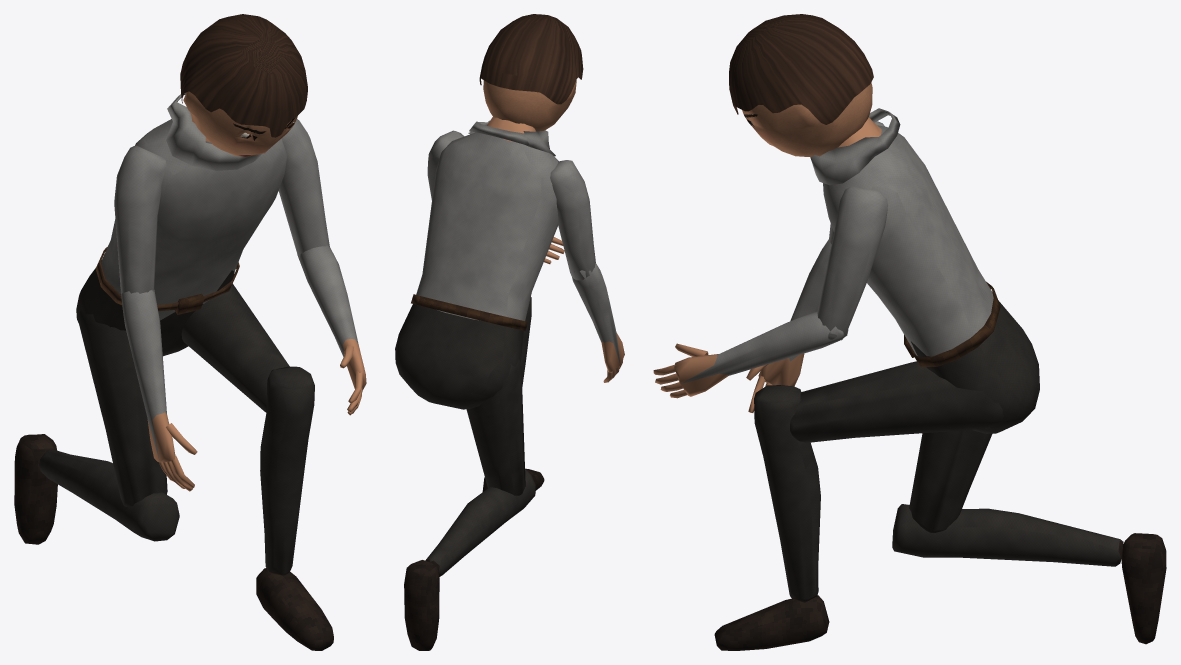
Rendered from persona_nino_agachado_lod.obj.
The picture shows the model from 3 angles, left to right: view 1: azimuth 30°, elevation 25°; view 2: azimuth 150°, elevation 25°; view 3: azimuth 270°, elevation 25°; orthographic projection. The views are drawn at different scales.
Visible parts, largest first — view 1: persona_nino_agachado; view 2: persona_nino_agachado; view 3: persona_nino_agachado.
Part boxes in pixels (bbox=[...]): persona_nino_agachado: bbox=[14, 14, 366, 650]; persona_nino_agachado: bbox=[395, 14, 624, 650]; persona_nino_agachado: bbox=[653, 14, 1166, 650].
Size of the model in its own units: 0.3158 by 0.9543 by 0.6938.
Materials: 12 (12 with a texture image).
